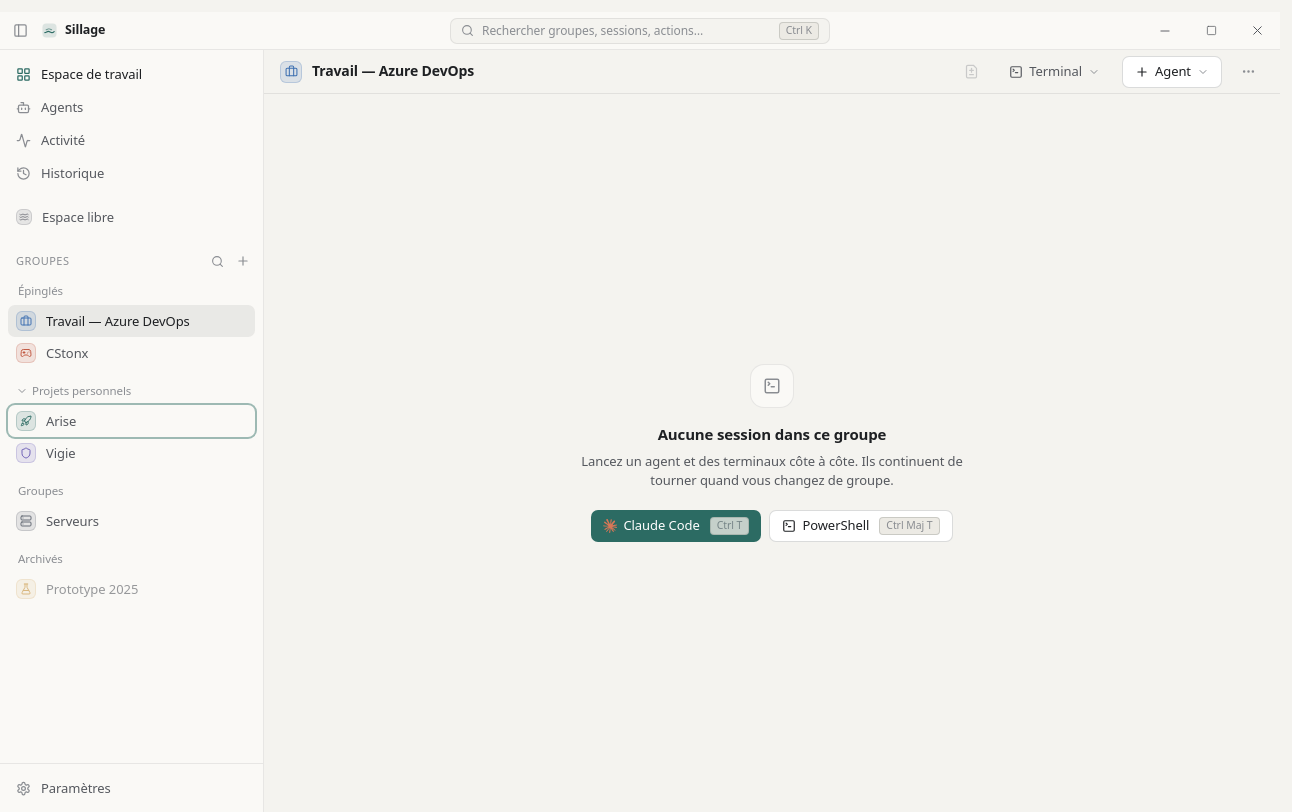
Test case: App › renames a group inline with F2
Press F2
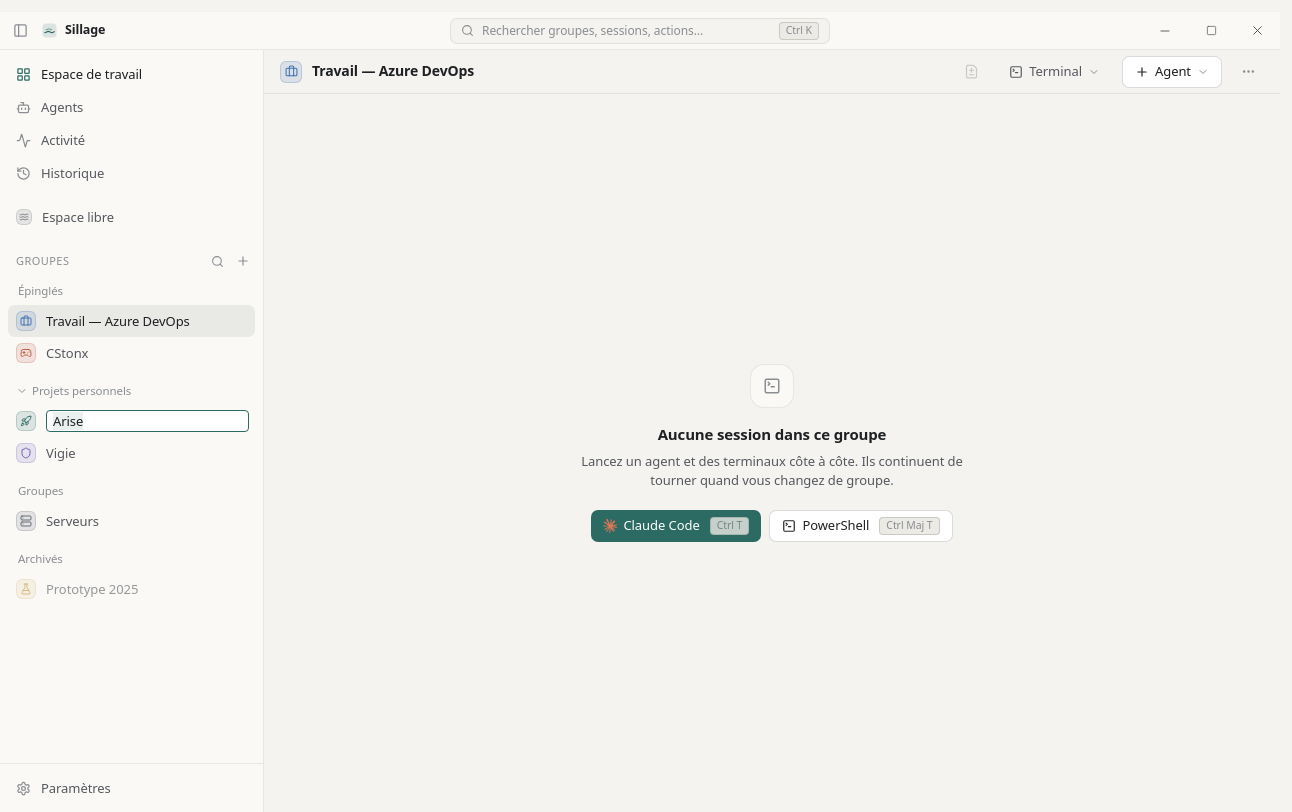
Replace the text in the field named "Nouveau nom" with "Arise v2" at (148, 421), box [46,410,249,432]
Then press Enter
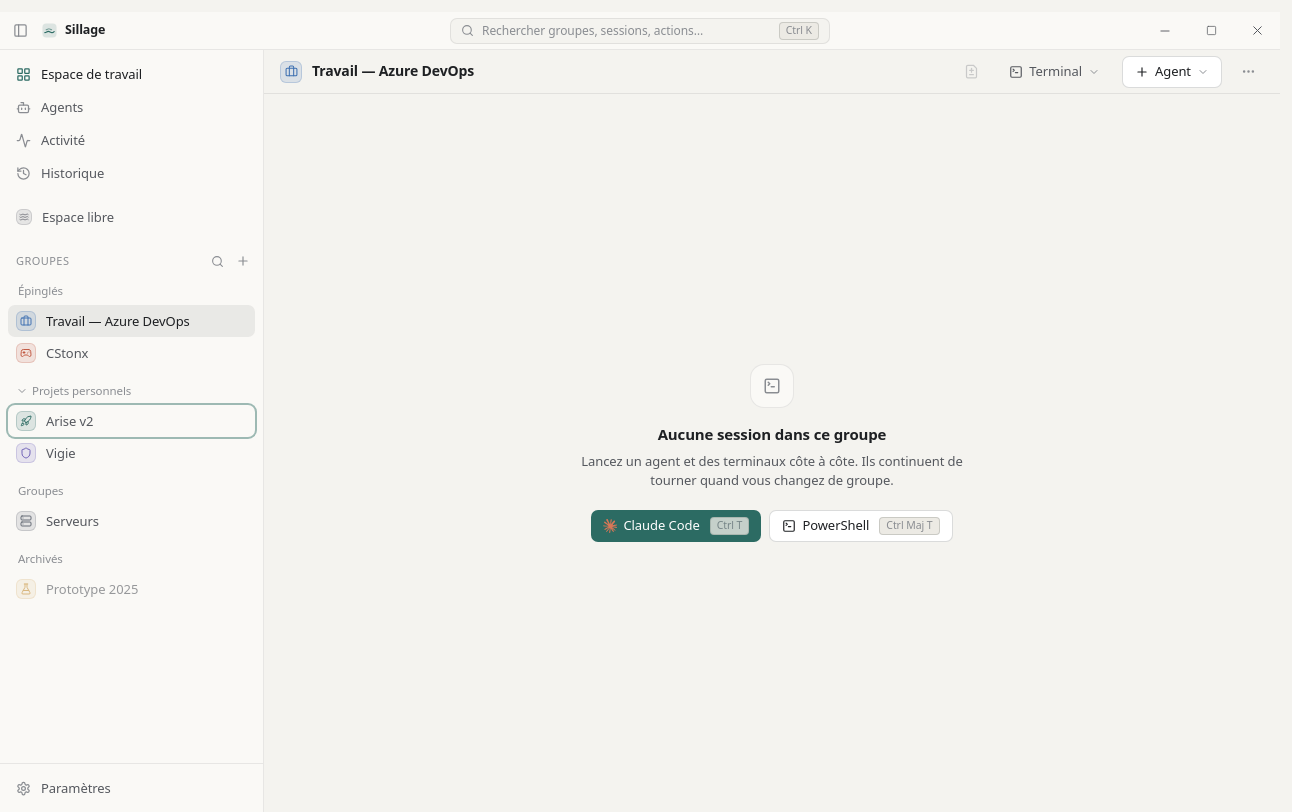
Check: the text "Arise v2" is shown, box [46,412,94,430]
